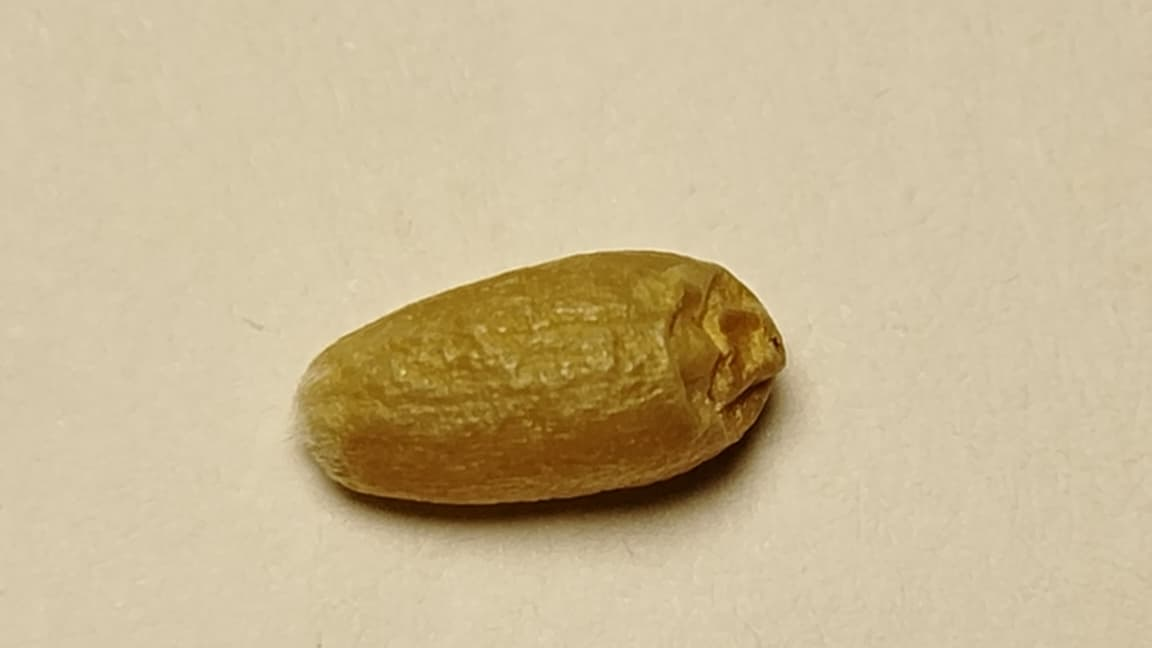healthy: (300, 252, 784, 502)
